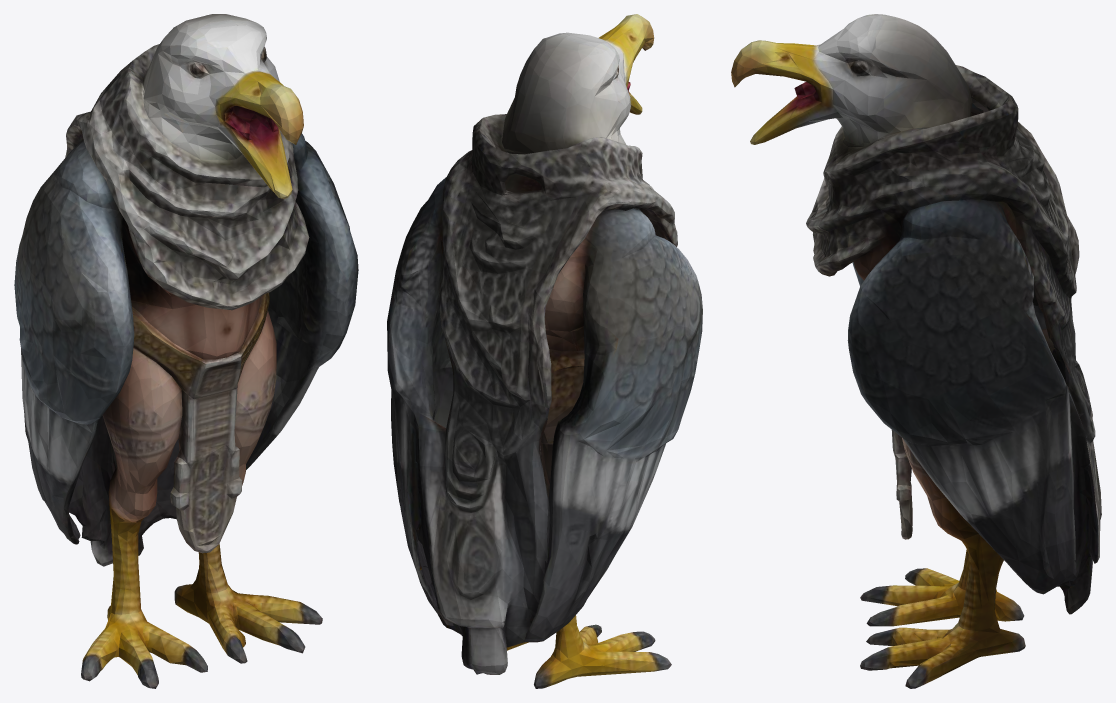
The model's file is seaGullHarpy.glb.
3 views of the same model, side by side, from view 1: azimuth 30°, elevation 25°; view 2: azimuth 150°, elevation 25°; view 3: azimuth 270°, elevation 25° (orthographic). The views are drawn at different scales.
Parts seen in each view (by area): view 1: world; view 2: world; view 3: world.
Boxes of the visible parts, x1,y1,x2,y2 form: world: [14, 14, 358, 688]; world: [387, 14, 702, 688]; world: [731, 14, 1101, 688].
Bounding box in the file's own units: 0.4623 × 0.9893 × 0.5437.
1 material, 1 textured.
